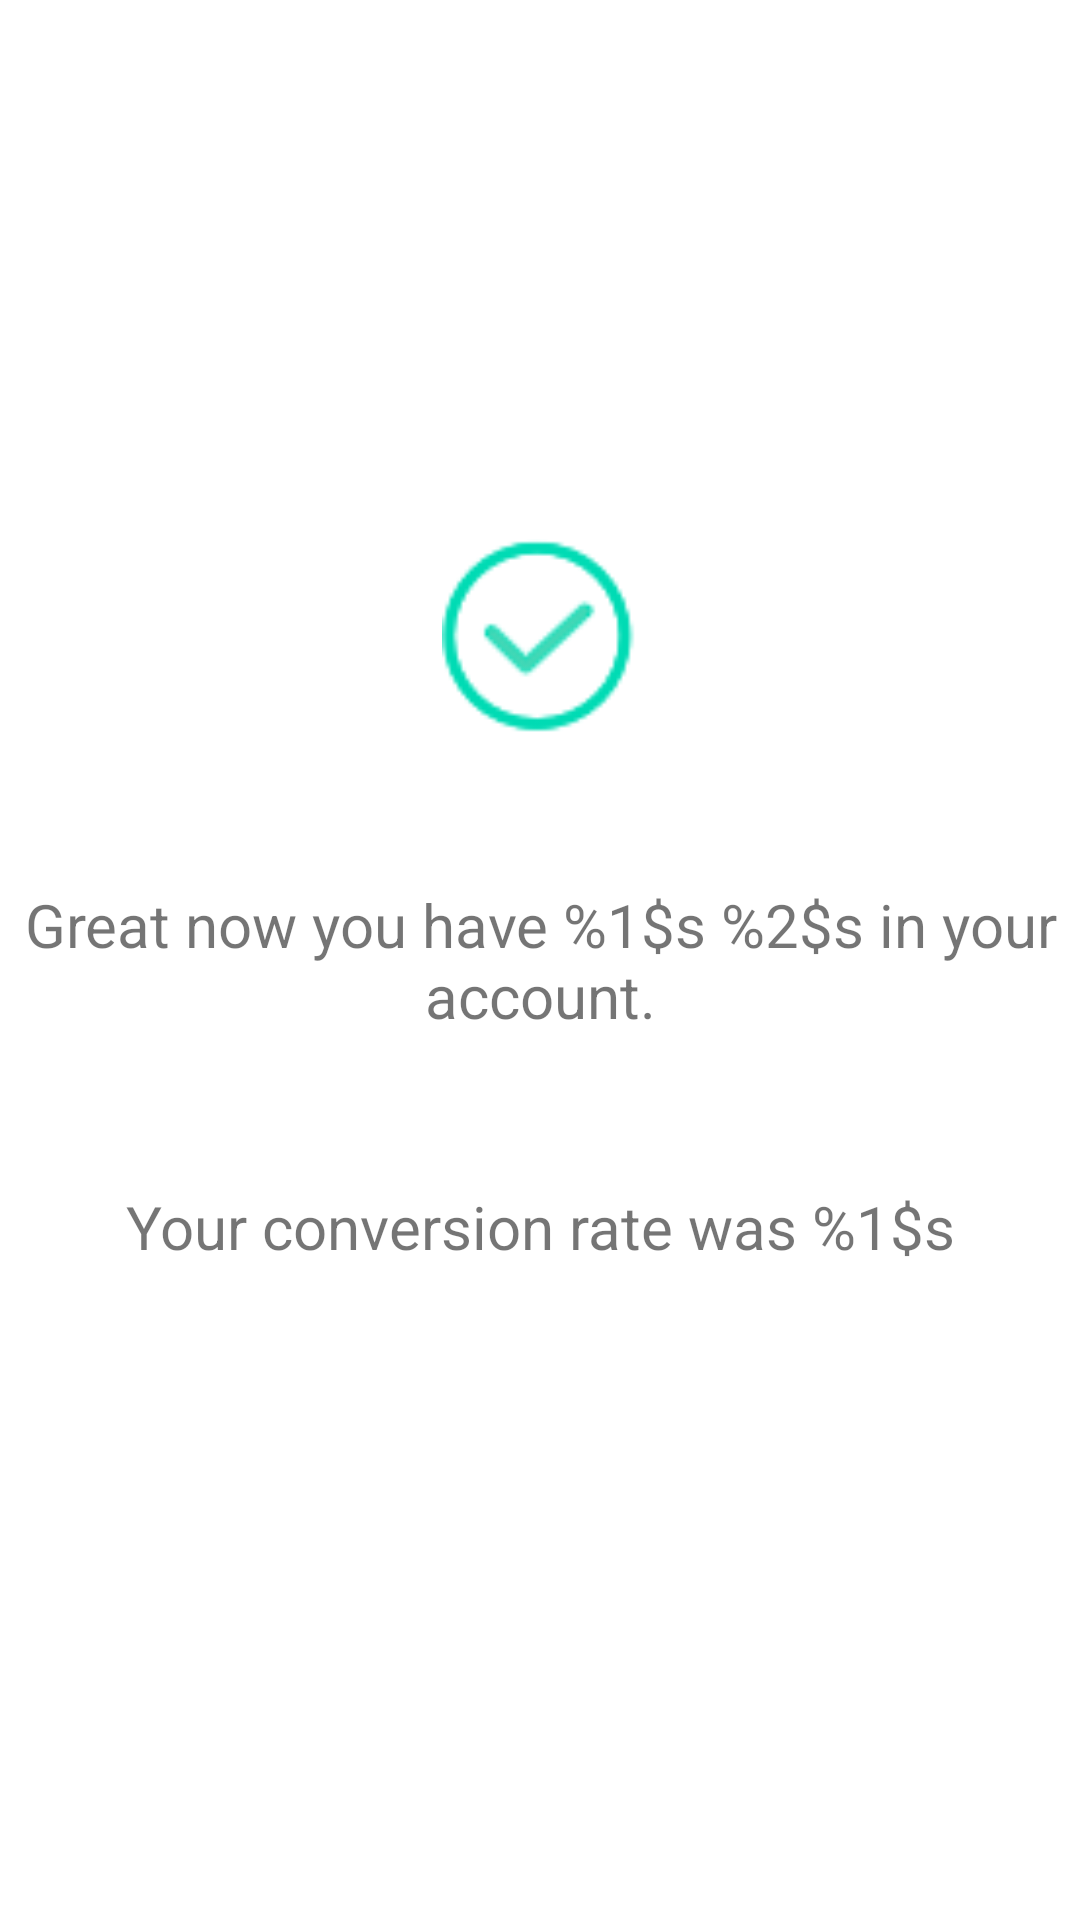

Screen size 1080w x 1920h. Icon name, then its box in pixels as (x1, y1, x2, y2):
promo applied: (442, 541, 634, 732)
